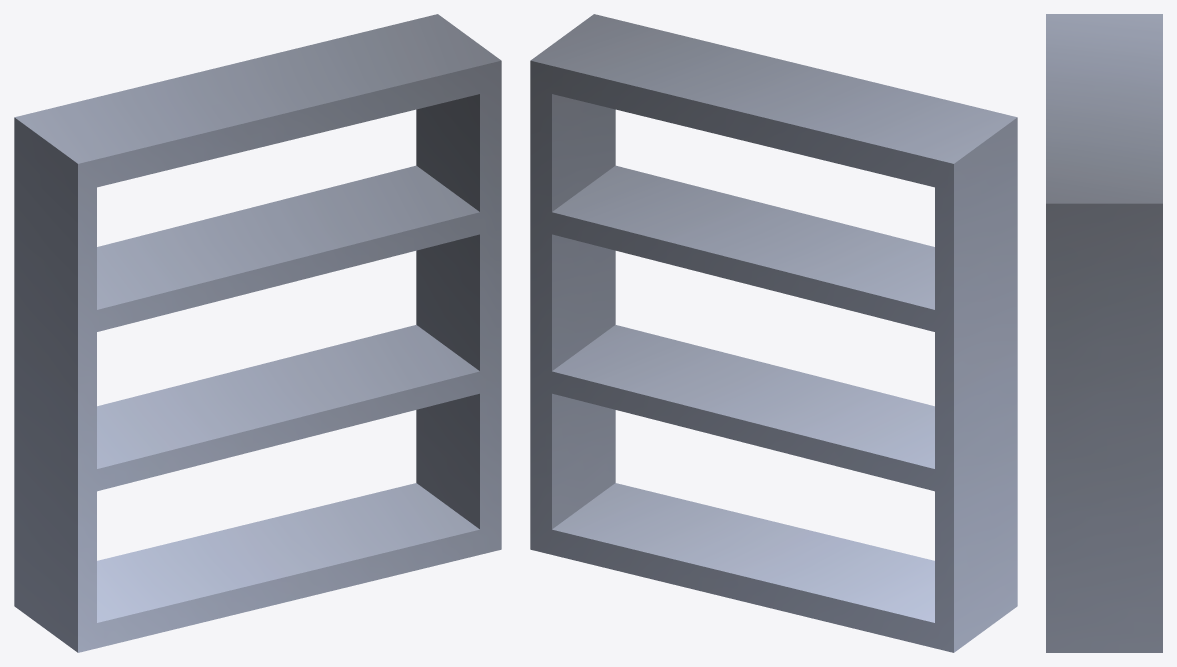
Rendered from POL0110028.fbx.
The picture shows the model from 3 angles, left to right: view 1: azimuth 30°, elevation 25°; view 2: azimuth 150°, elevation 25°; view 3: azimuth 270°, elevation 25°; orthographic projection. The views are drawn at different scales.
Parts seen in each view (by area): view 1: smPOL0110028; view 2: smPOL0110028; view 3: smPOL0110028.
Boxes of the visible parts, bbox=[...] form: smPOL0110028: bbox=[14, 14, 501, 652]; smPOL0110028: bbox=[530, 14, 1017, 652]; smPOL0110028: bbox=[1046, 14, 1162, 652].
Size of the model in its own units: 186 by 205 by 48.48.
Materials: 1 (1 with a texture image).
